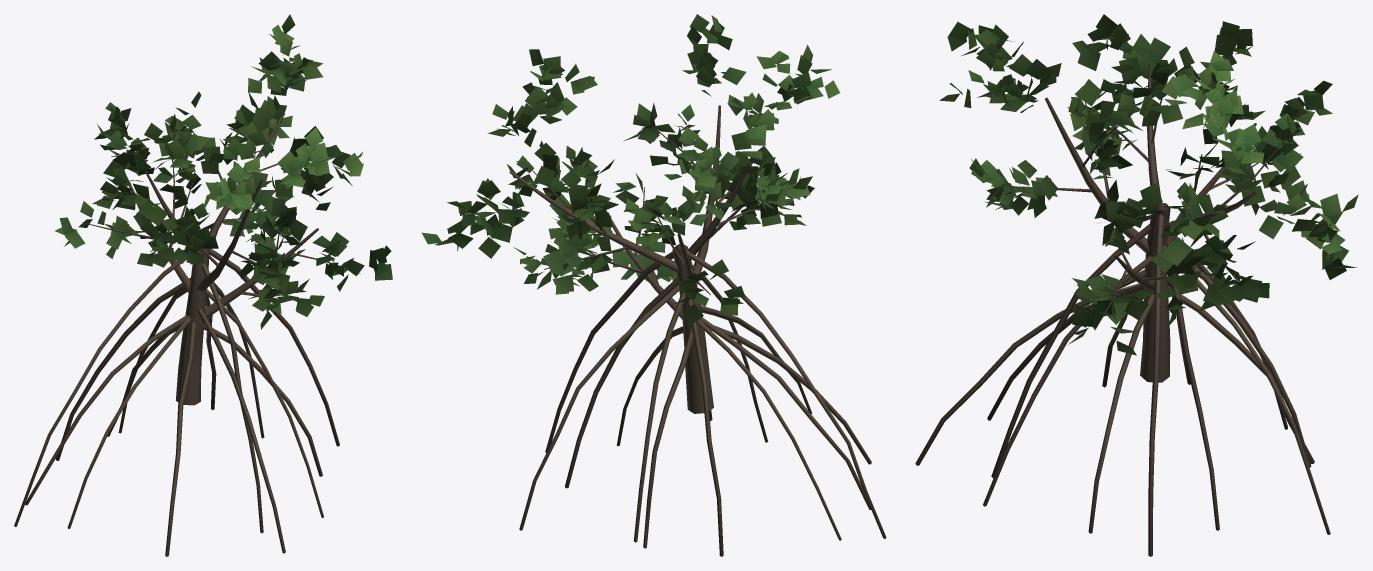
The model's file is mangrove-b.lod1.glb.
3 views of the same model, side by side, from view 1: azimuth 30°, elevation 25°; view 2: azimuth 150°, elevation 25°; view 3: azimuth 270°, elevation 25° (orthographic). The views are drawn at different scales.
Size of the model in its own units: 5.96 by 6.6 by 5.35.
